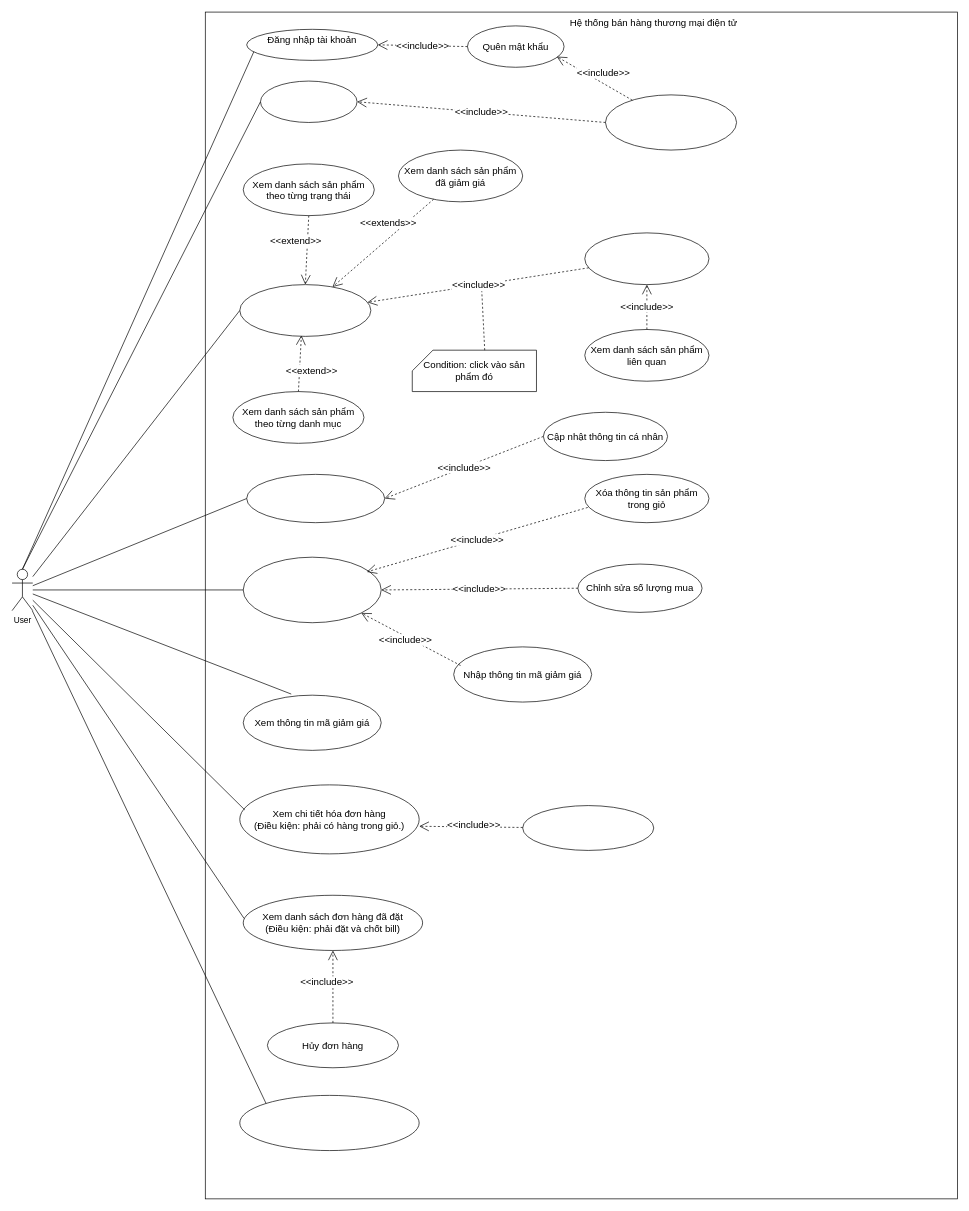
This 969x1211 diagram has some shape labels left out. The shapes that lost their labels are listed below. From the top down, each one's box as (x1, y1, x2, y2) in pixels, then its label:
(260, 80, 357, 122): Đăng kí tài khoản
(605, 94, 737, 150): Xác thực email/ sđt (ko làm)
(584, 232, 709, 285): Xem chi tiết cụ thể sản phẩm
(239, 284, 371, 336): Xem danh sách sản phẩm (Có thể mở rộng danh sách)
(246, 474, 385, 523): Xem thông tin cá nhân
(243, 556, 381, 623): Xem thông tin giỏ hàng
(522, 805, 654, 850): Điền thông tin hóa đơn
(239, 1095, 419, 1151): Gửi tin nhắn cho shop. Chat real time hoặc gửi tin nhắn dạng email.
